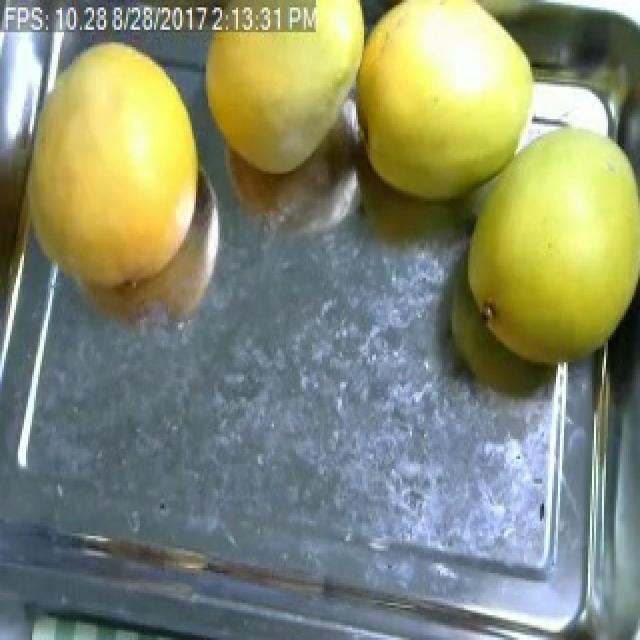fruit: (2, 30, 220, 312), (448, 104, 640, 380), (330, 0, 560, 223), (190, 15, 374, 191)
